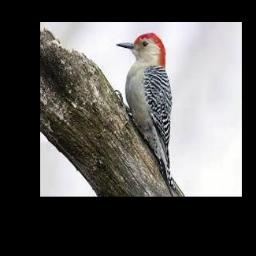Woodpecker: (117, 33, 183, 196)
